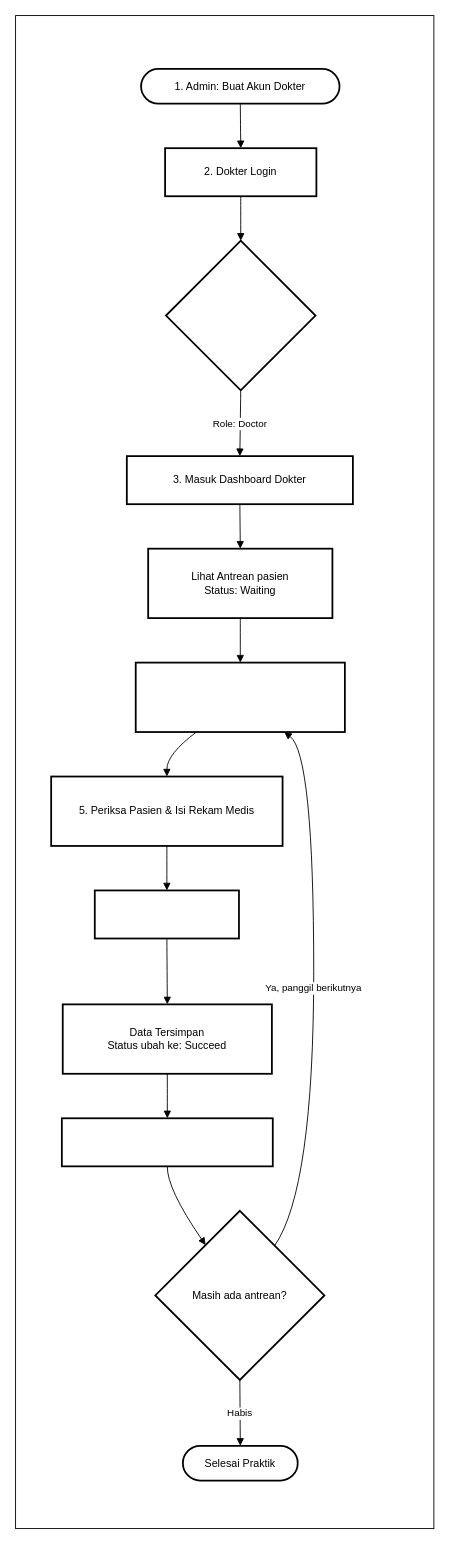
Some shapes in this 449 by 1544 pixel diagram are drawn without their labels. The box of each missing label's shape, as (x1, y1, x2, y2) in pixels:
4. Panggil Pasien Masuk Status ubah ke: Engaged: (134, 661, 345, 732)
6. Klik Simpan: (93, 889, 239, 939)
7. Pasien Lanjut ke Kasir: (61, 1117, 273, 1167)
Sistem Cek Role: (165, 239, 316, 391)
